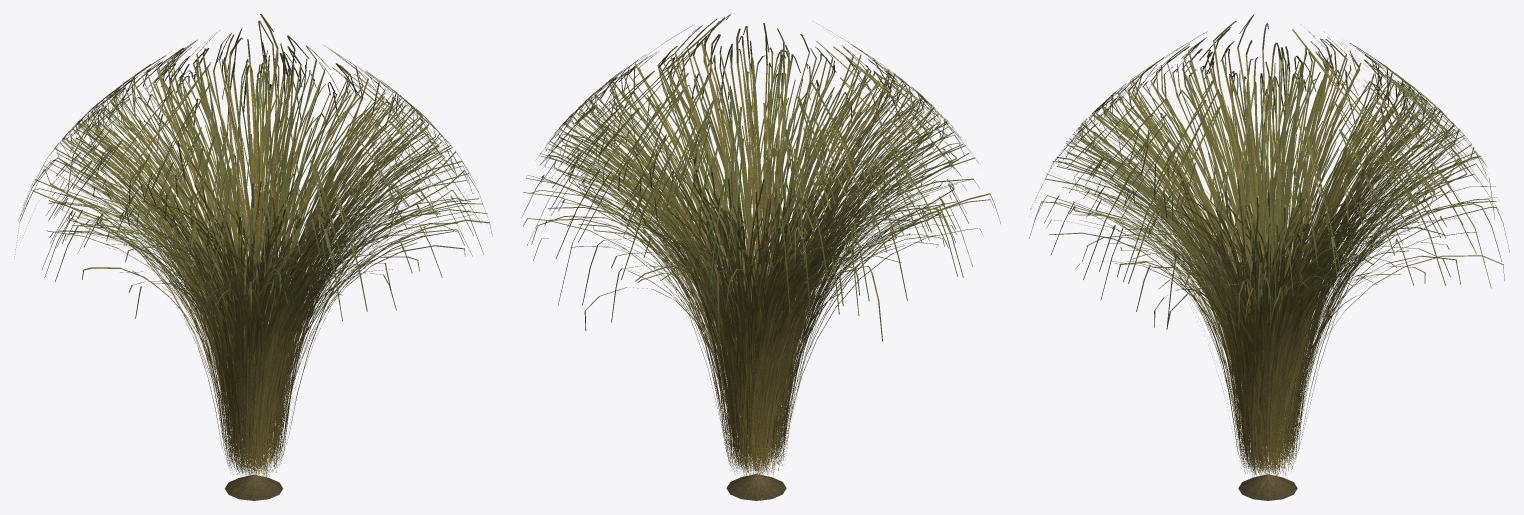
The model's file is bunchgrass-tussock-01.glb.
The picture shows the model from 3 angles, left to right: view 1: azimuth 30°, elevation 25°; view 2: azimuth 150°, elevation 25°; view 3: azimuth 270°, elevation 25°; orthographic projection. The views are drawn at different scales.
Visible parts, largest first — view 1: foliage, crown; view 2: foliage, crown; view 3: foliage, crown.
Part boxes in pixels (x1,y1,x2,y2): foliage: (14, 14, 492, 480); crown: (225, 474, 283, 500); foliage: (521, 14, 1000, 480); crown: (726, 474, 786, 500); foliage: (1029, 14, 1509, 480); crown: (1238, 474, 1297, 500).
Size of the model in its own units: 0.6791 by 0.731 by 0.68.
Materials: 2 (2 with a texture image).
